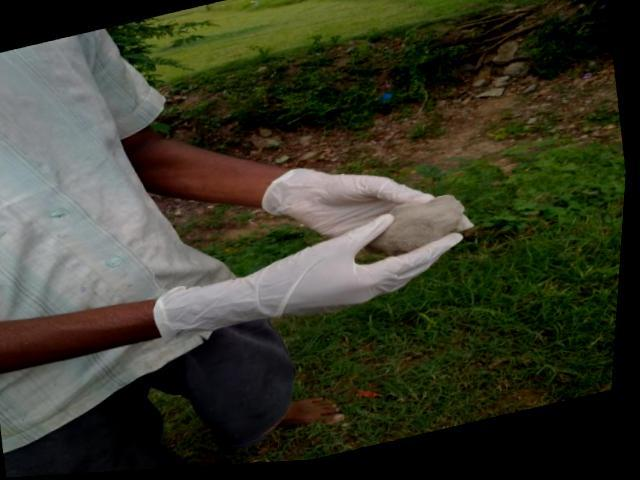Hand-in-Glove: (159, 200, 482, 353), (253, 129, 490, 285)
